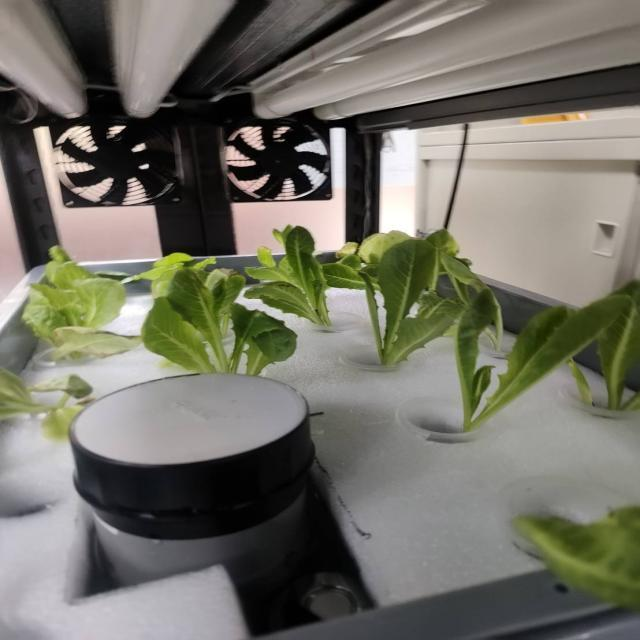Lettuce-Not-Ready-to-Harvest: (455, 290, 628, 429), (142, 269, 297, 375), (513, 508, 638, 608), (365, 239, 453, 365), (245, 226, 330, 324), (23, 291, 142, 359), (32, 246, 125, 328), (0, 369, 93, 440), (417, 230, 490, 320), (597, 280, 640, 411), (337, 230, 413, 270), (132, 252, 193, 298), (245, 246, 302, 286), (192, 258, 237, 291), (322, 262, 367, 290), (570, 361, 593, 405), (487, 292, 503, 349)
